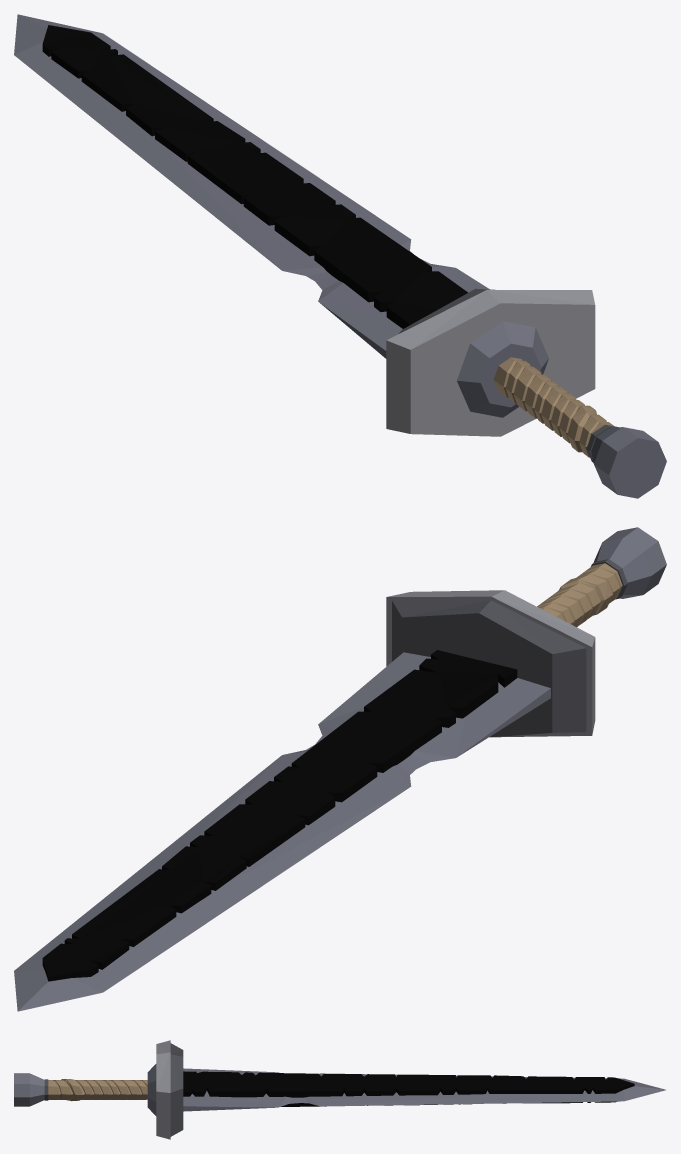
File: sword_24.glb
3 renders of one model, top to bottom at view 1: azimuth 30°, elevation 25°; view 2: azimuth 150°, elevation 25°; view 3: azimuth 270°, elevation 25°, orthographic. The views are drawn at different scales.
Visible parts, largest first — view 1: sword_24; view 2: sword_24; view 3: sword_24.
Part boxes in pixels (x1,y1,x2,y2): sword_24: [14, 14, 666, 498]; sword_24: [14, 527, 666, 1011]; sword_24: [14, 1040, 665, 1139].
Size of the model in its own units: 0.2673 by 0.1745 by 1.4.
1 material, 1 textured.
